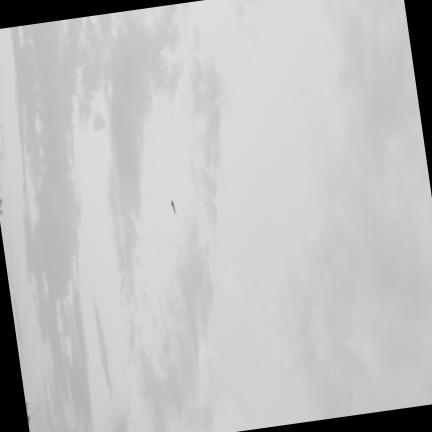Shahed: (169, 199, 177, 216)
